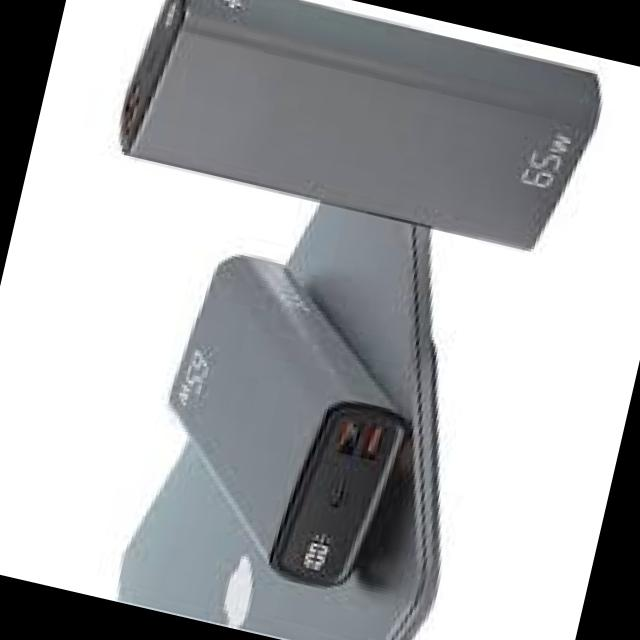portable-charger: (107, 0, 610, 264), (130, 241, 435, 600)
